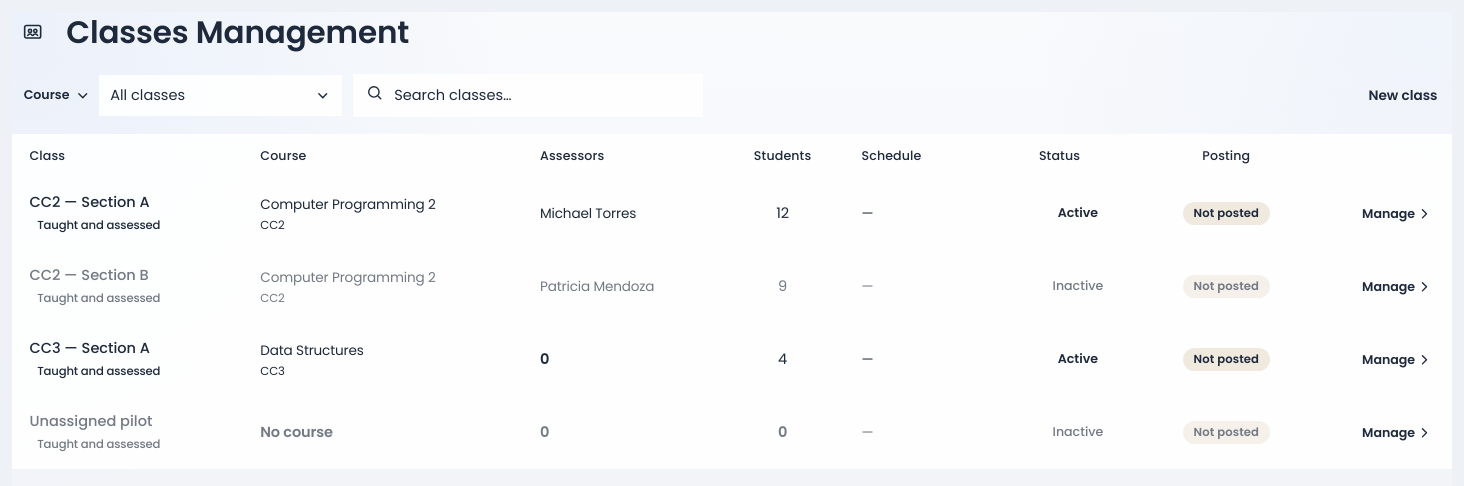
ClassesManagement — the course filter › counts what the course and the search leave, against the whole list
The width and height of the screenshot is (1464, 486).
Type "Section" into the search field labelled "Search classes" at [541, 95], box [392,84,689,107]
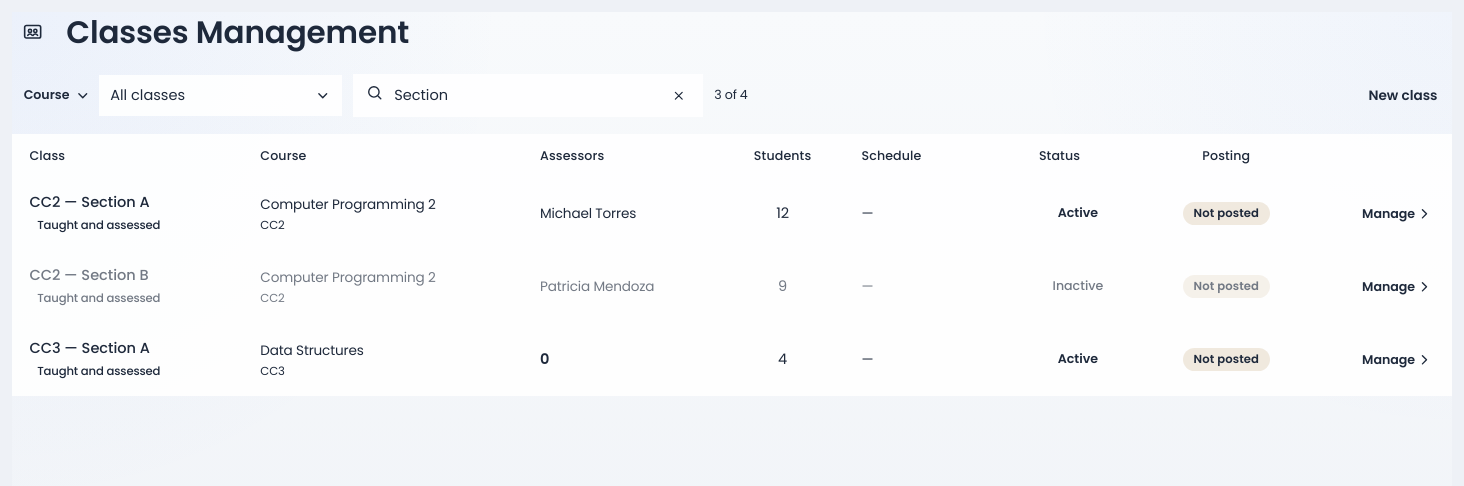
Check: the text "3 of 4" is shown, box [714,86,748,104]
Click the dropdown named "Filter classes by course" at [220, 95], box [98,75,342,116]
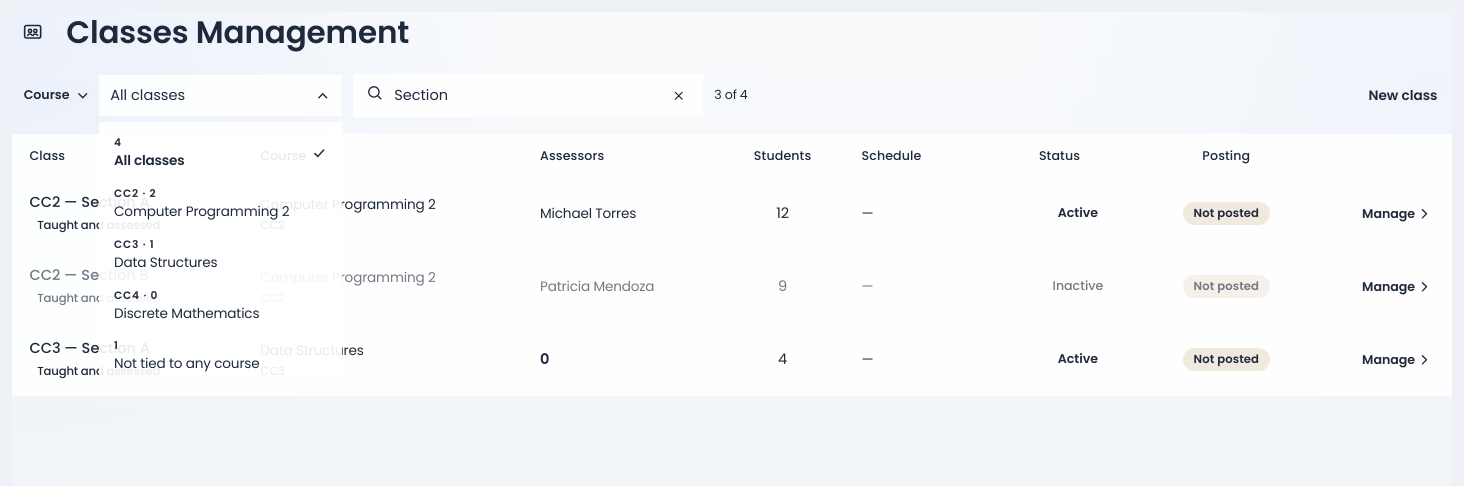
Press the mouse on the option "CC2 · 2 Computer Programming 2" at [202, 203], box [114,186,289,221]
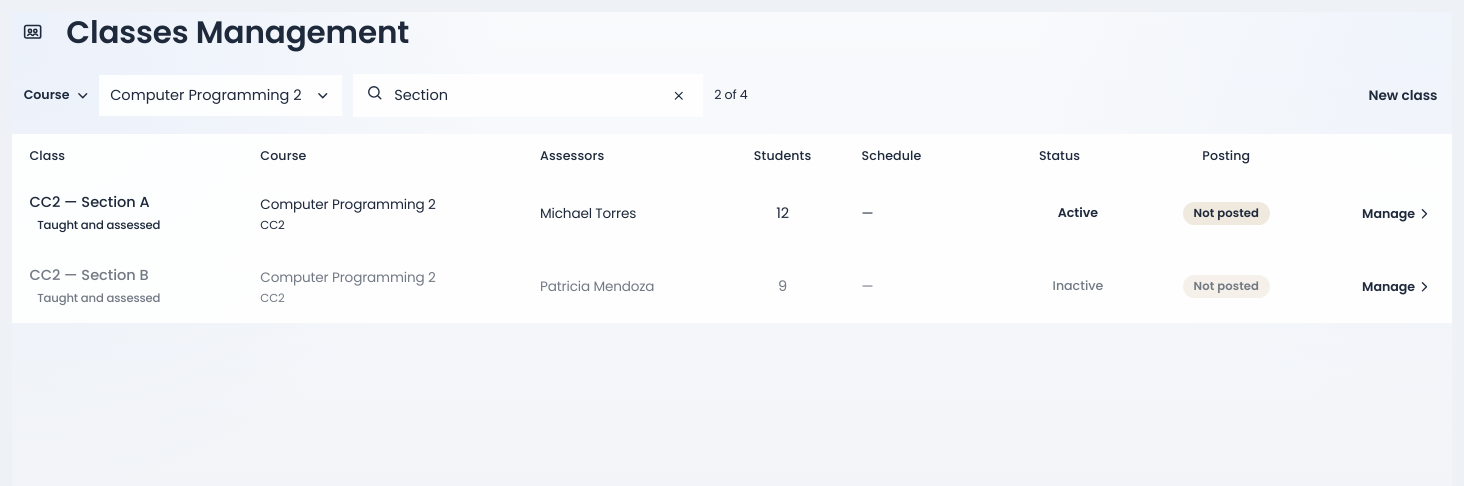
Check: the text "2 of 4" is shown, box [714,86,747,104]
